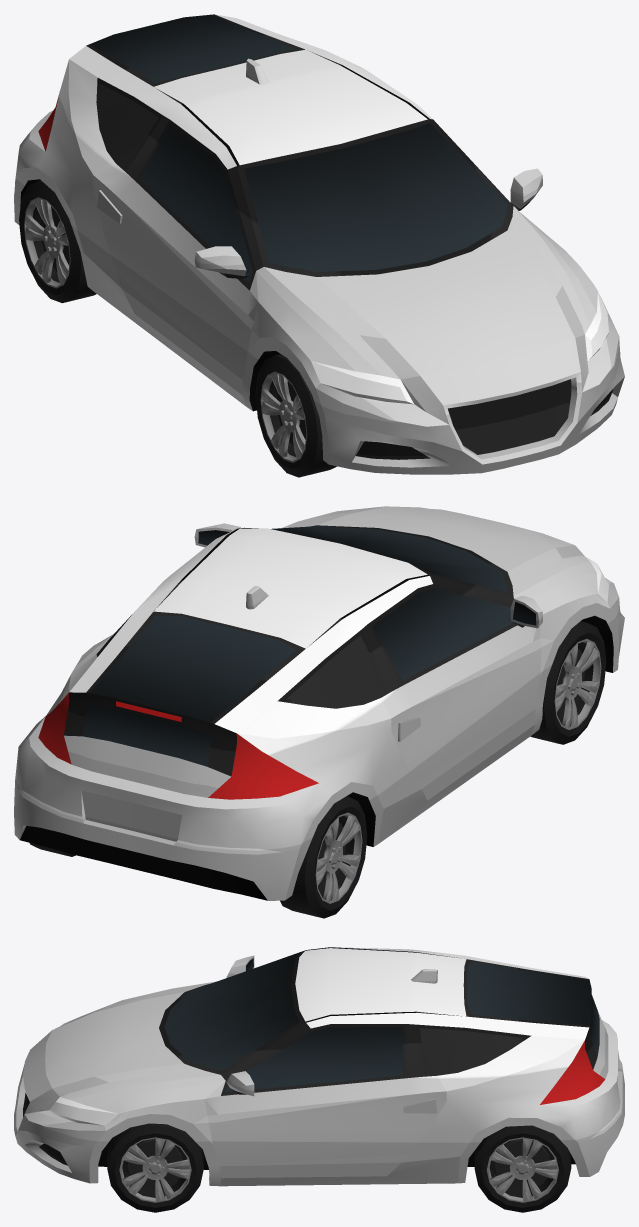
Rendered from Simple_Japanese_Car_V22.fbx.
The picture shows the model from 3 angles, top to bottom: view 1: azimuth 30°, elevation 25°; view 2: azimuth 150°, elevation 25°; view 3: azimuth 270°, elevation 25°; orthographic projection. The views are drawn at different scales.
Parts seen in each view (by area): view 1: Body.007, FR.008, RR.008; view 2: Body.007, RR.008, FR.008; view 3: Body.007, FL.008, RL.008.
Boxes of the visible parts, left/top/right/bottom form: Body.007: left=14, top=14, right=624, bottom=474; FR.008: left=255, top=354, right=336, bottom=477; RR.008: left=19, top=180, right=96, bottom=303; Body.007: left=14, top=506, right=624, bottom=900; RR.008: left=280, top=796, right=367, bottom=918; FR.008: left=530, top=621, right=606, bottom=744; Body.007: left=14, top=947, right=624, bottom=1186; FL.008: left=107, top=1123, right=203, bottom=1212; RL.008: left=474, top=1125, right=571, bottom=1212.
Bounding box in the file's own units: 2.06 × 1.4 × 4.1.
Materials: 2 (2 with a texture image).
